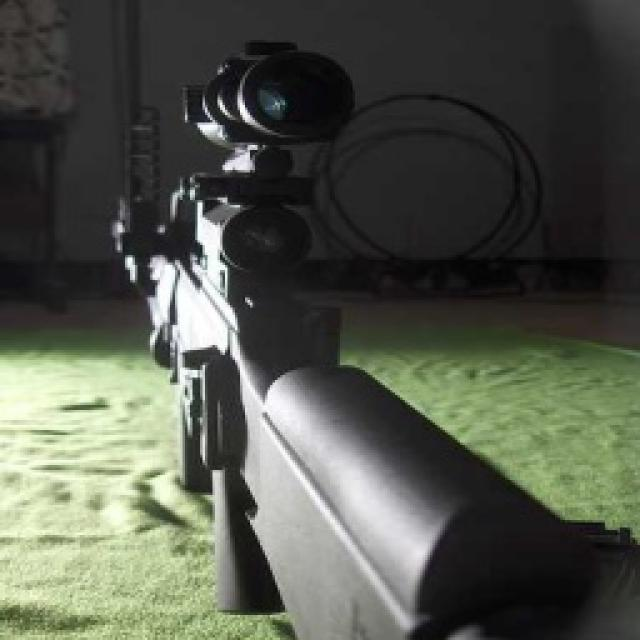long weapon: (68, 50, 602, 638)
